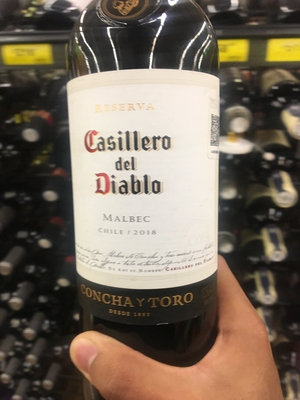casillero del diablo malbec: (53, 8, 239, 400)
